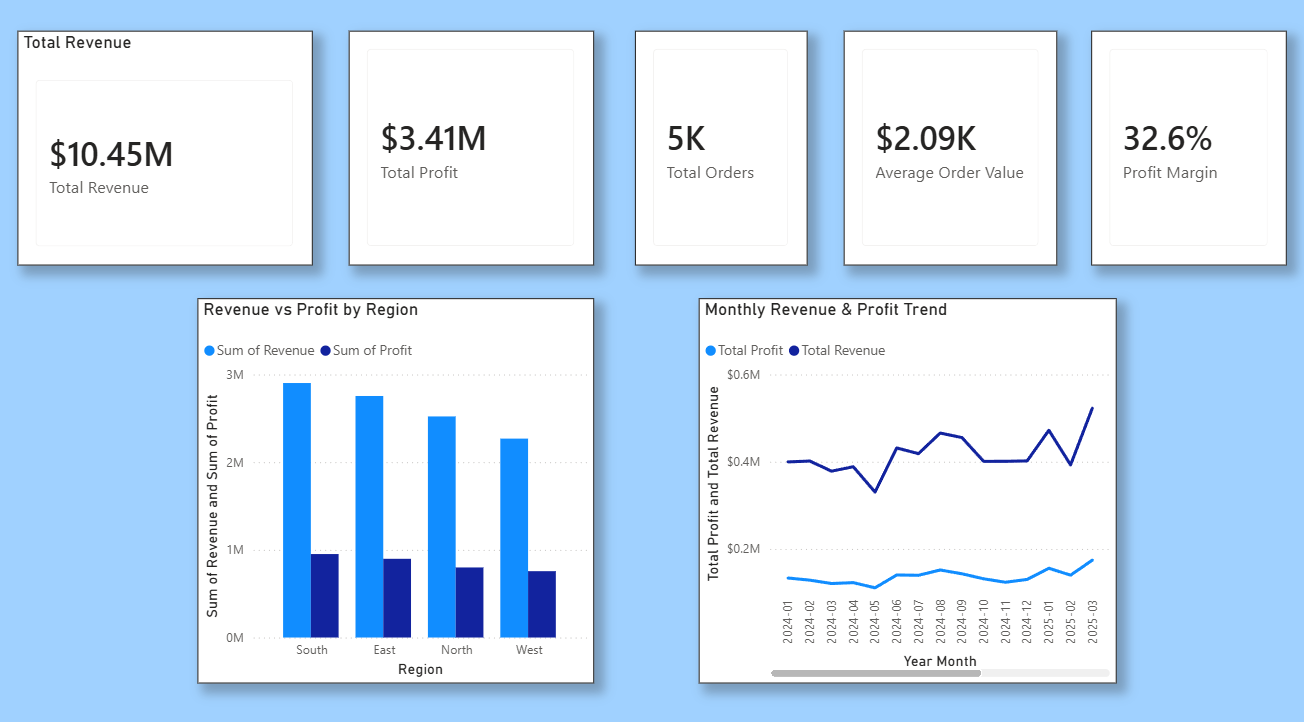

Layout of this report page (visuals, bound fields, positions):
{"tool":"powerbi","page":{"name":"Executive Overview","canvas":[1280,720],"ordinal":0},"visuals":[{"type":"cardVisual","title":"Total Revenue","fields":{"Data":["DateTable.Total Revenue"]},"box":[17.1,42.8,288.6,229.9],"z":0},{"type":"cardVisual","fields":{"Data":["DateTable.Total Profit"]},"box":[341.2,42.8,239.7,229.9],"z":1000},{"type":"cardVisual","fields":{"Data":["DateTable.Total Orders"]},"box":[621.2,42.8,168.8,229.9],"z":2000},{"type":"cardVisual","fields":{"Data":["DateTable.Average Order Value"]},"box":[825.4,42.8,209.1,229.9],"z":3000},{"type":"cardVisual","fields":{"Data":["DateTable.Profit Margin"]},"box":[1067.5,42.8,191,229.5],"z":4000},{"type":"clusteredColumnChart","title":"Revenue vs Profit by Region","fields":{"Category":["retail_profitability_data.Region"],"Y":["Sum(retail_profitability_data.Revenue)","Sum(retail_profitability_data.Profit)"]},"box":[193.2,304.5,387.6,376.6],"z":4001},{"type":"lineChart","title":"Monthly Revenue & Profit Trend","fields":{"Category":["DateTable.Year Month"],"Y":["DateTable.Total Profit","DateTable.Total Revenue"]},"box":[683.6,304.5,408.4,376.6],"z":4002}]}

Visuals, with their boxes in screenshot pixels (x1, y1, x2, y2), scaled from the page's 1280x720 canvas onto the 1304x722 screenshot:
"Total Revenue" cardVisual: x1=17, y1=43, x2=311, y2=273
cardVisual - DateTable.Total Profit: x1=348, y1=43, x2=592, y2=273
cardVisual - DateTable.Total Orders: x1=633, y1=43, x2=805, y2=273
cardVisual - DateTable.Average Order Value: x1=841, y1=43, x2=1054, y2=273
cardVisual - DateTable.Profit Margin: x1=1088, y1=43, x2=1282, y2=273
"Revenue vs Profit by Region" clusteredColumnChart: x1=197, y1=305, x2=592, y2=683
"Monthly Revenue & Profit Trend" lineChart: x1=696, y1=305, x2=1112, y2=683
